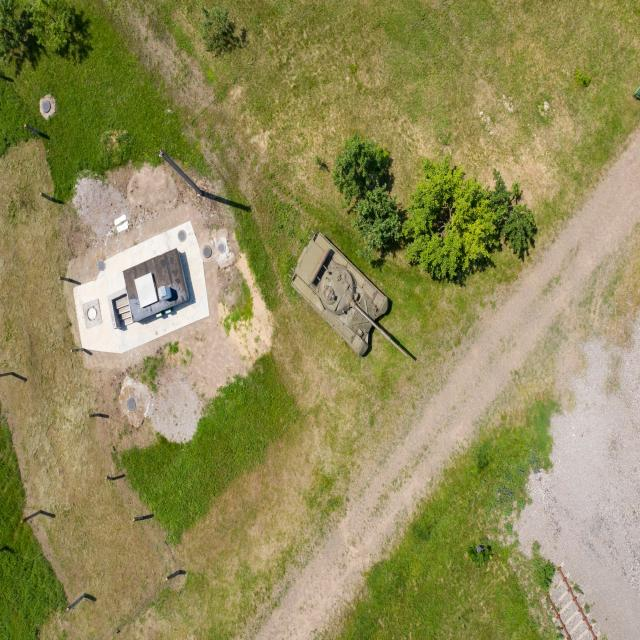tank: (283, 228, 415, 362)
